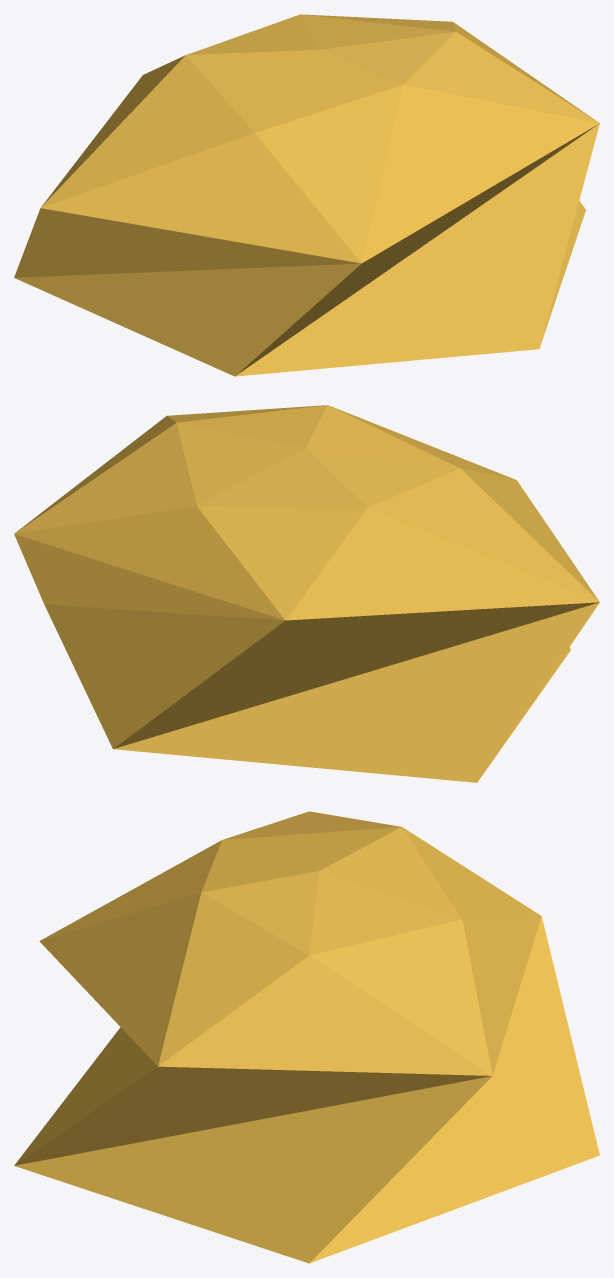
File: item_rm_gold_a.obj
3 views of the same model, one above another, from view 1: azimuth 30°, elevation 25°; view 2: azimuth 150°, elevation 25°; view 3: azimuth 270°, elevation 25° (orthographic). The views are drawn at different scales.
Size of the model in its own units: 0.4836 by 0.187 by 0.3991.
